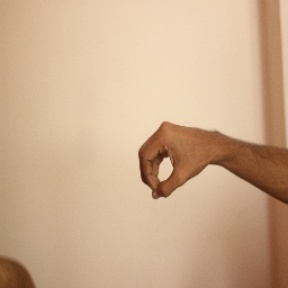O: (137, 118, 218, 202)
